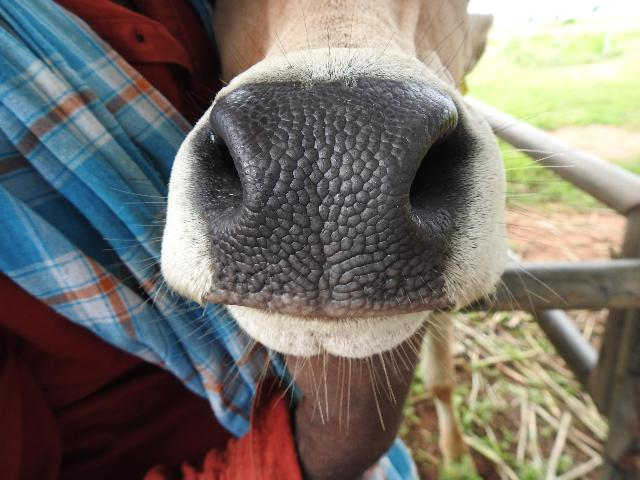Muzzle: (223, 95, 423, 295)
